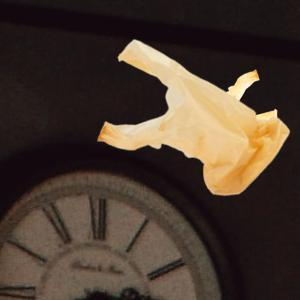plastic_bag: (98, 37, 292, 201)
